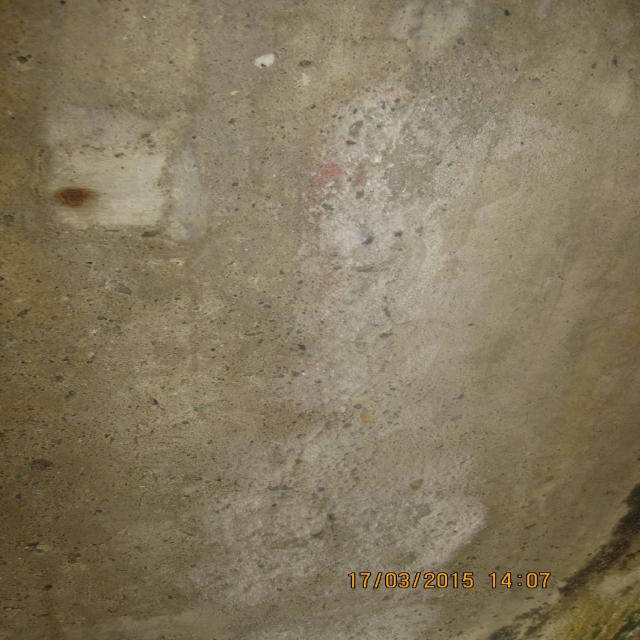corrosion: (40, 165, 114, 226)
